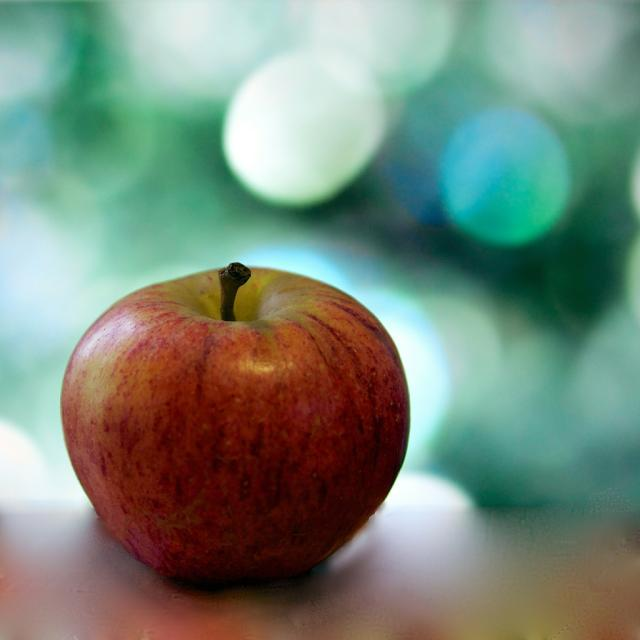Healty Apple: (58, 257, 412, 585)
